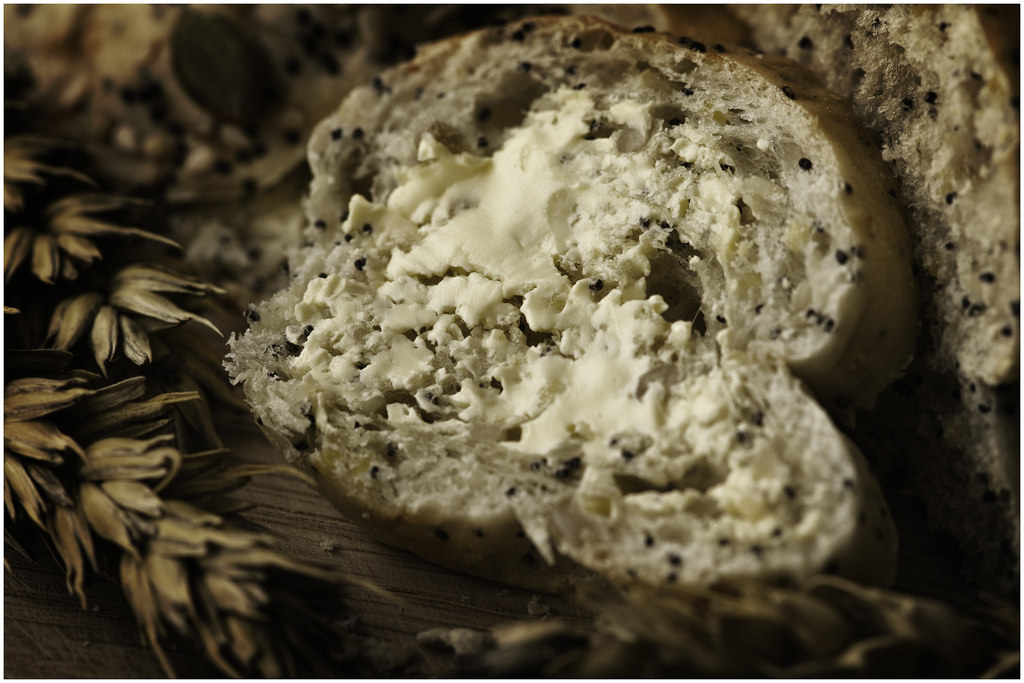slice of bread: (288, 38, 888, 577)
